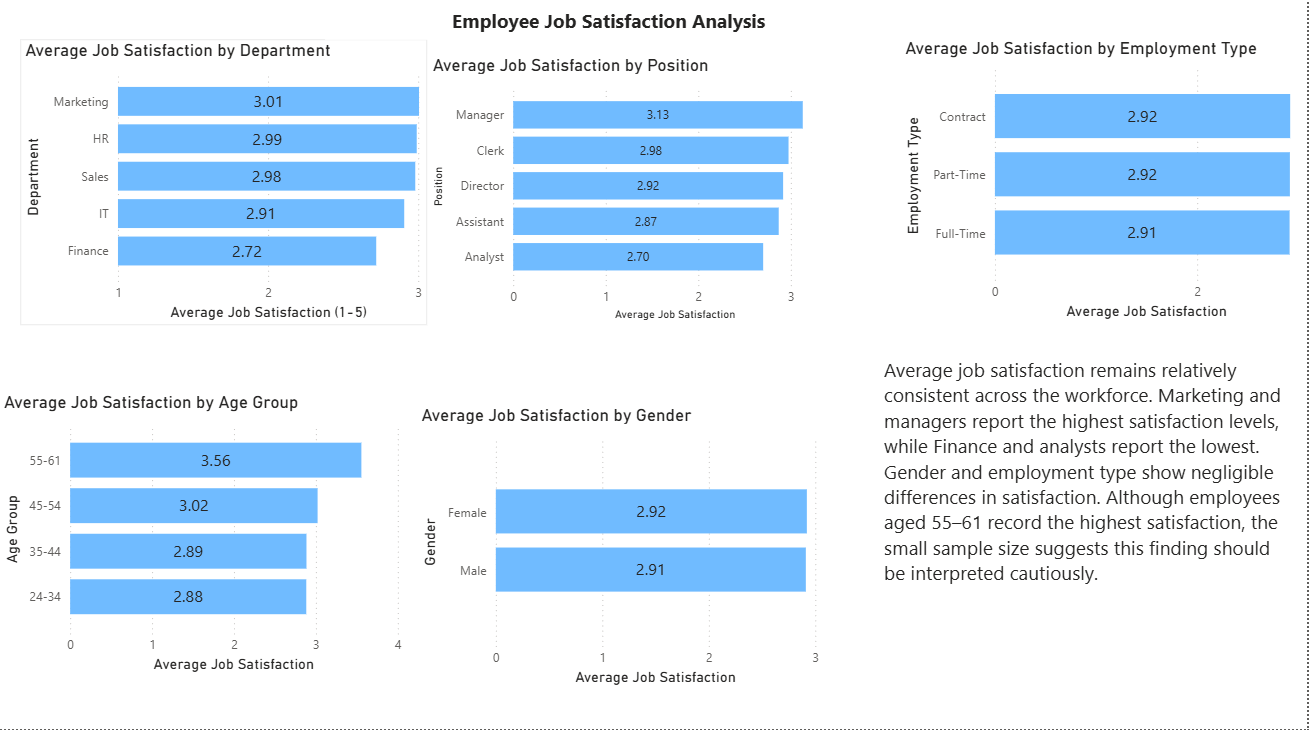

The page's visual inventory and layout, read from the dashboard file:
{"tool":"powerbi","page":{"name":"Job Satisfaction","canvas":[1280,720],"ordinal":3},"visuals":[{"type":"clusteredBarChart","title":"Average Job Satisfaction by Department","fields":{"Y":["hr_data_ hr_analysis_view.Average Job Satisfaction"],"Category":["hr_data_ hr_analysis_view.Department_clean"]},"box":[20.6,45.3,399.3,279.9],"z":0},{"type":"clusteredBarChart","fields":{"Y":["hr_data_ hr_analysis_view.Average Job Satisfaction"],"Category":["hr_data_ hr_analysis_view.Position"]},"box":[442.7,58.7,409.6,265.4],"z":1000},{"type":"clusteredBarChart","fields":{"Y":["hr_data_ hr_analysis_view.Average Job Satisfaction"],"Category":["hr_data_ hr_analysis_view.Gender"]},"box":[452.4,390.1,399.3,279.9],"z":2000},{"type":"clusteredBarChart","fields":{"Category":["hr_data_ hr_analysis_view.Status_clean"],"Y":["hr_data_ hr_analysis_view.Average Job Satisfaction"]},"box":[881.7,44,398.6,280],"z":3000},{"type":"clusteredBarChart","fields":{"Category":["hr_data_ hr_analysis_view.Age Group"],"Y":["hr_data_ hr_analysis_view.Average Job Satisfaction"]},"box":[19.6,379.1,399.3,279.9],"z":4000},{"type":"textbox","box":[319.7,9.6,554.4,35.7],"z":5000},{"type":"textbox","box":[860.9,351,398.6,299.6],"z":6000}]}

Visuals, with their boxes in screenshot pixels (x1, y1, x2, y2), scaled from the page's 1280x720 canvas onto the 1313x730 screenshot:
"Average Job Satisfaction by Department" clusteredBarChart: <region>21, 46, 431, 330</region>
clusteredBarChart - hr_data_ hr_analysis_view.Average Job Satisfaction x hr_data_ hr_analysis_view.Position: <region>454, 60, 874, 329</region>
clusteredBarChart - hr_data_ hr_analysis_view.Average Job Satisfaction x hr_data_ hr_analysis_view.Gender: <region>464, 396, 874, 679</region>
clusteredBarChart - hr_data_ hr_analysis_view.Status_clean x hr_data_ hr_analysis_view.Average Job Satisfaction: <region>904, 45, 1312, 328</region>
clusteredBarChart - hr_data_ hr_analysis_view.Age Group x hr_data_ hr_analysis_view.Average Job Satisfaction: <region>20, 384, 430, 668</region>
textbox: <region>328, 10, 897, 46</region>
textbox: <region>883, 356, 1292, 660</region>
